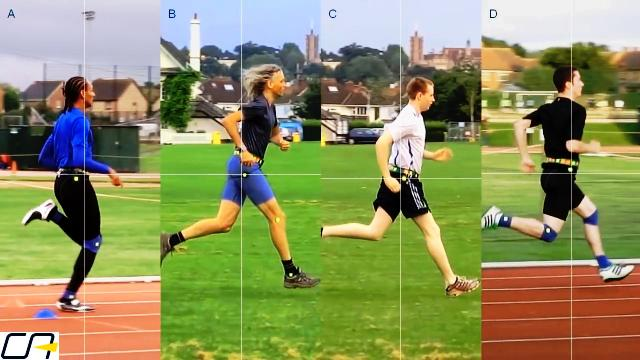berlari: (163, 52, 321, 292), (320, 70, 480, 300), (484, 59, 634, 291), (28, 55, 126, 321)
